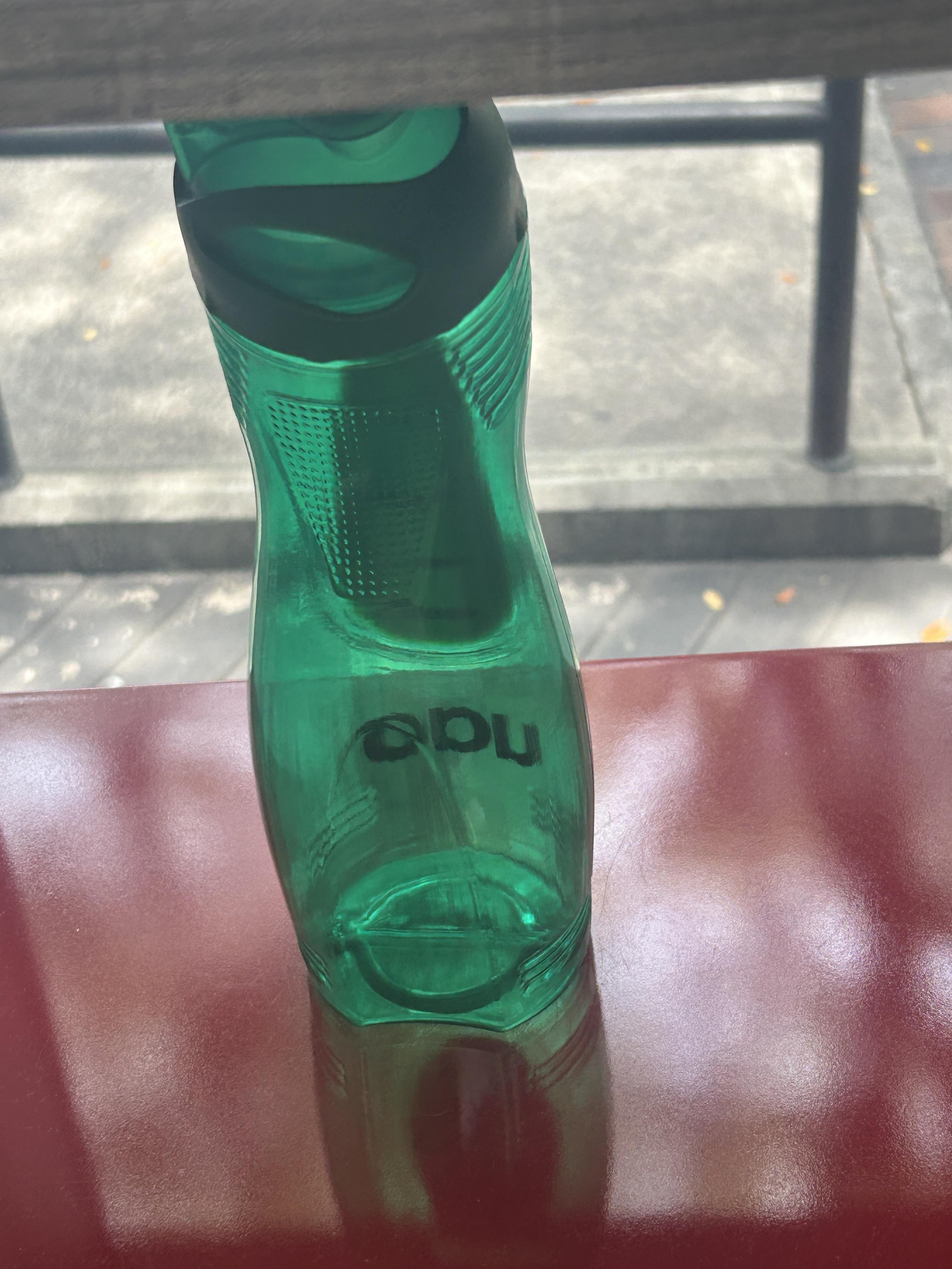termo: (167, 103, 592, 1030)
